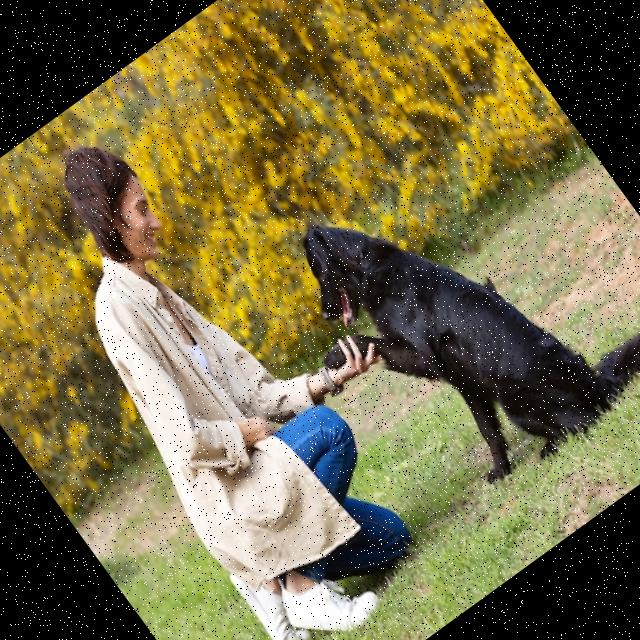Dog: (255, 76, 640, 532)
Person: (0, 71, 506, 640)
